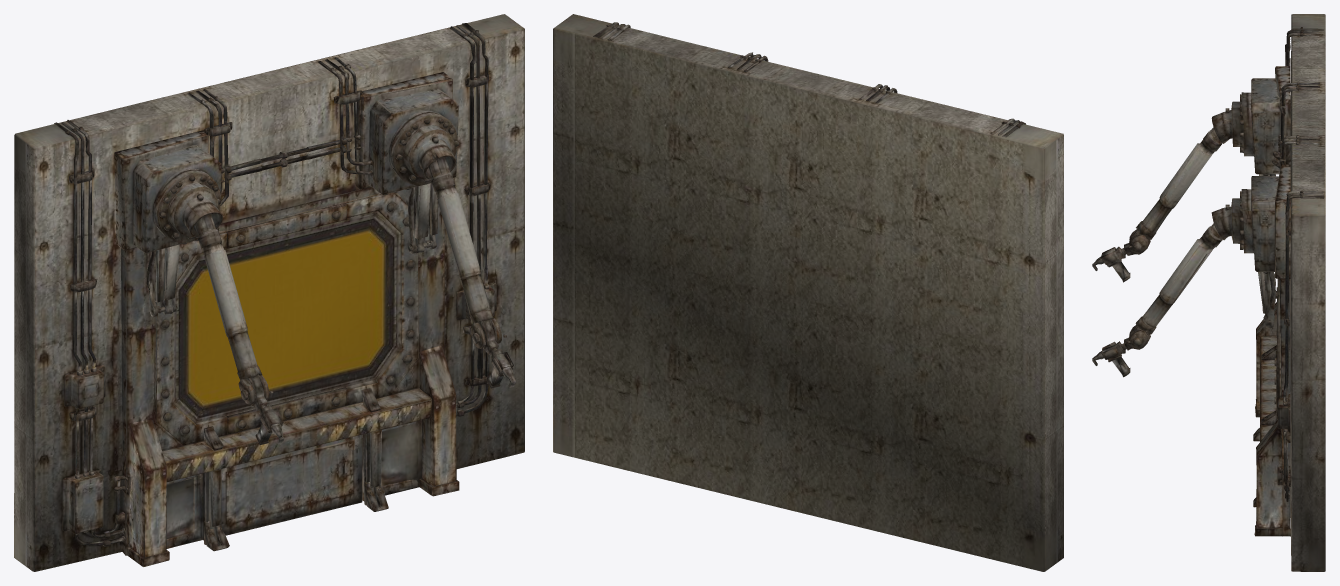
File: reactor-hot-cell-window.glb
3 views of the same model, side by side, from view 1: azimuth 30°, elevation 25°; view 2: azimuth 150°, elevation 25°; view 3: azimuth 270°, elevation 25° (orthographic). The views are drawn at different scales.
Visible parts, largest first — view 1: reactor-hot-cell-window; view 2: reactor-hot-cell-window; view 3: reactor-hot-cell-window.
Boxes of the visible parts, left/top/right/bottom form: reactor-hot-cell-window: left=14, top=14, right=524, bottom=571; reactor-hot-cell-window: left=553, top=14, right=1063, bottom=571; reactor-hot-cell-window: left=1092, top=14, right=1325, bottom=571.
Bounding box in the file's own units: 3.6 × 3 × 1.76.
1 material, 1 textured.
